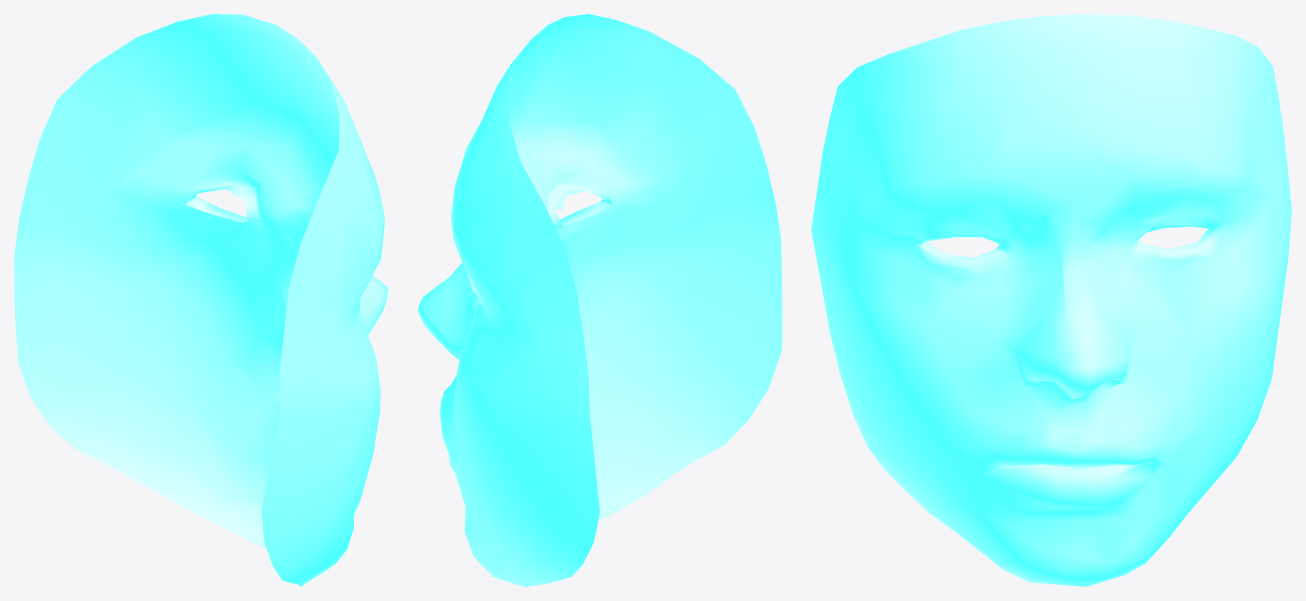
3 views of the same model, side by side, from view 1: azimuth 30°, elevation 25°; view 2: azimuth 150°, elevation 25°; view 3: azimuth 270°, elevation 25° (orthographic). The views are drawn at different scales.
Parts seen in each view (by area): view 1: JODIE_HEAD; view 2: JODIE_HEAD; view 3: JODIE_HEAD.
Boxes of the visible parts, x1,y1,x2,y2 form: JODIE_HEAD: (14,14,388,586); JODIE_HEAD: (417,14,782,586); JODIE_HEAD: (811,14,1291,586).
Bounding box in the file's own units: 114 × 213 × 165.
